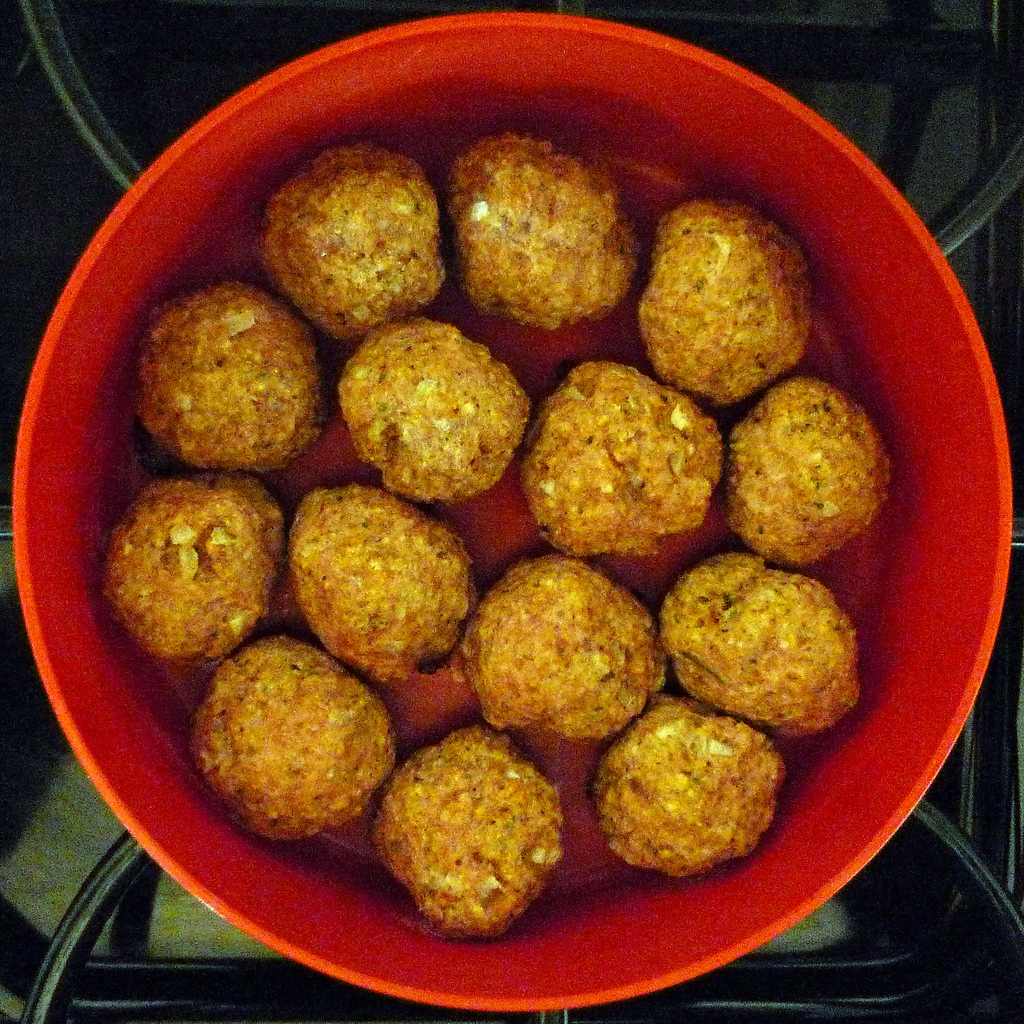meatballs: (87, 127, 918, 959)
